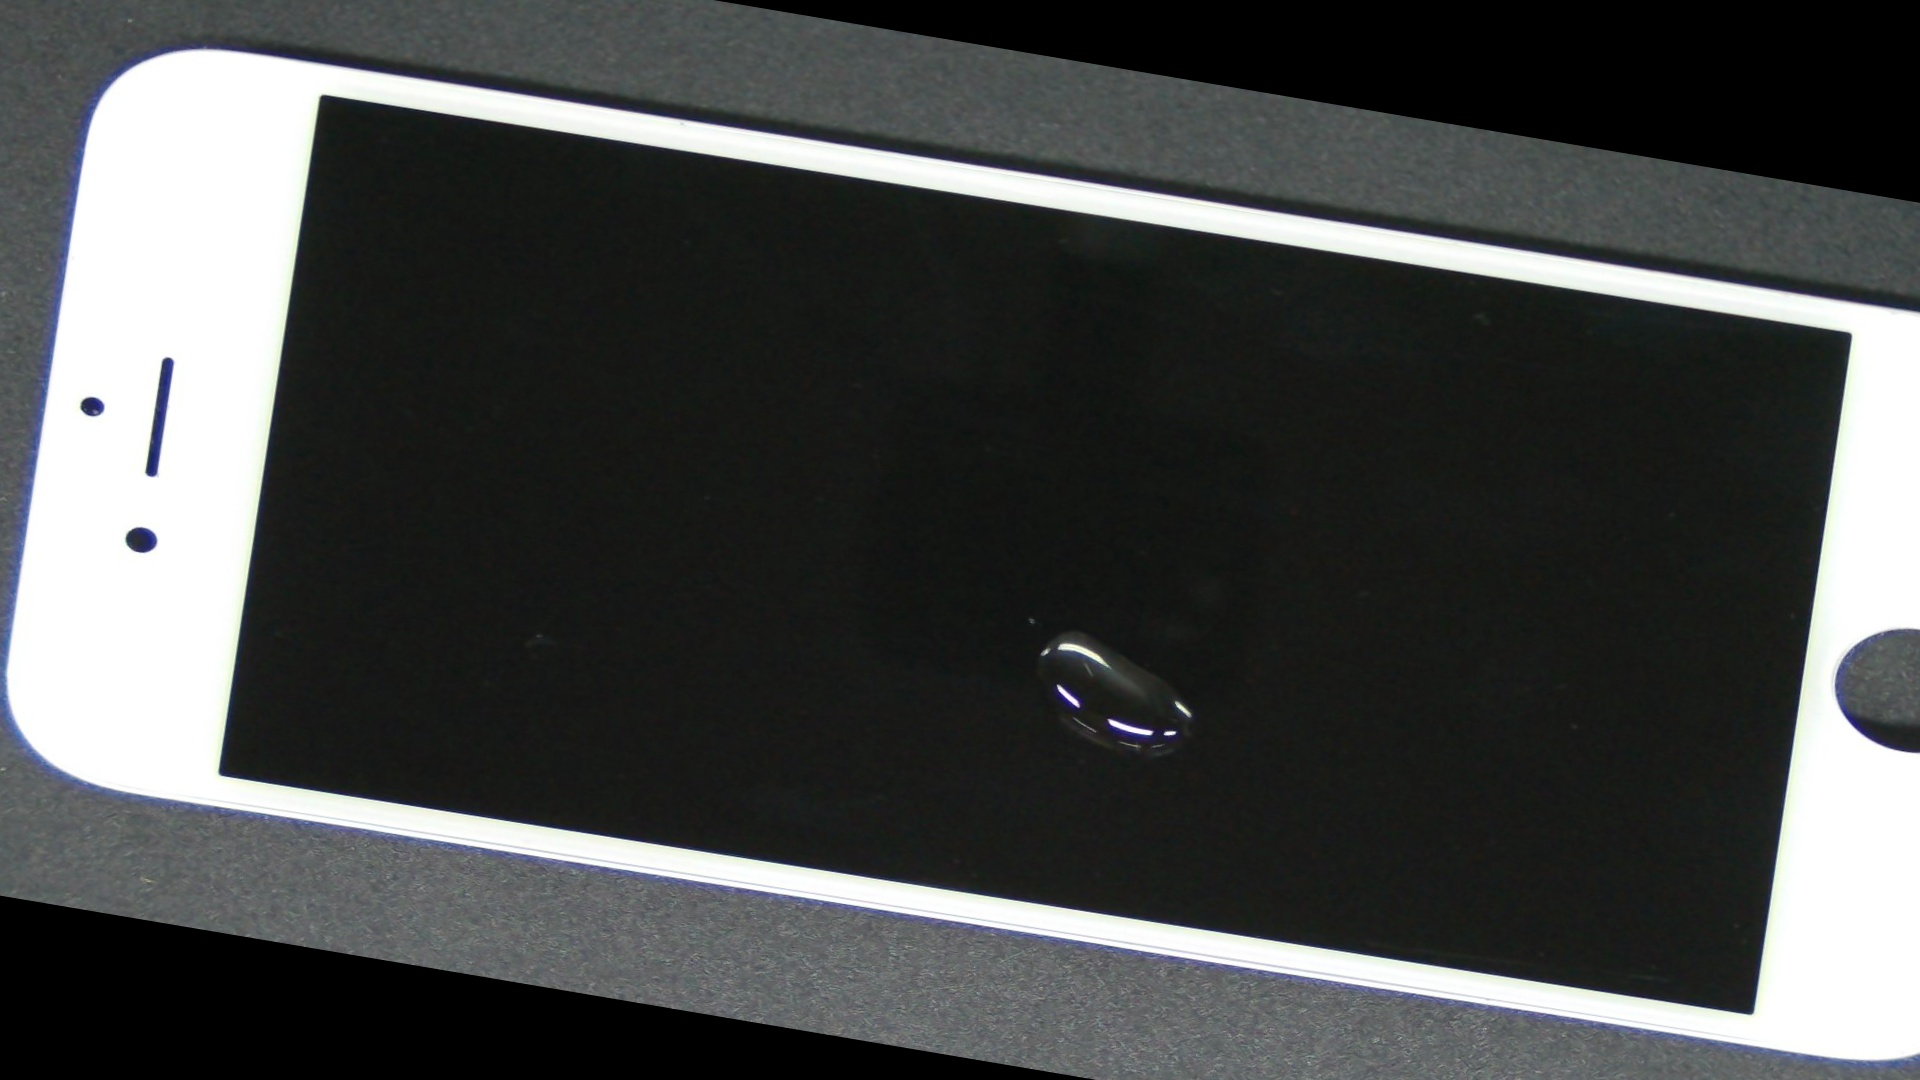oil: (451, 256, 1720, 1010)
